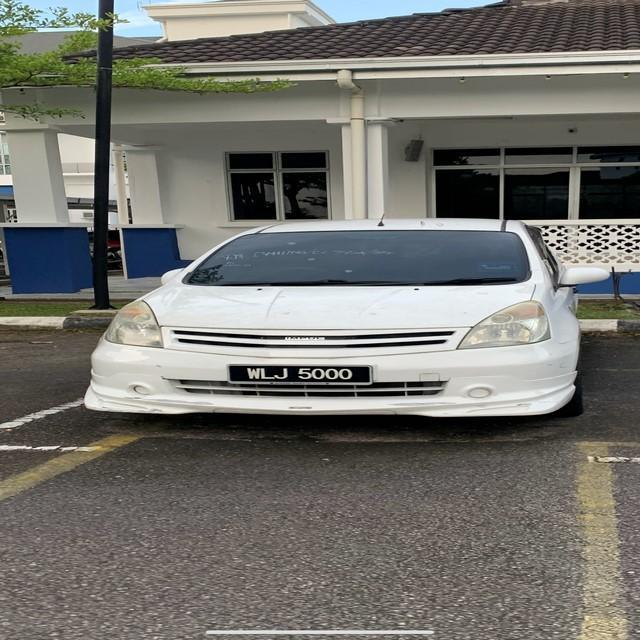License_Plate: (227, 355, 383, 396)
car: (77, 205, 597, 442)
